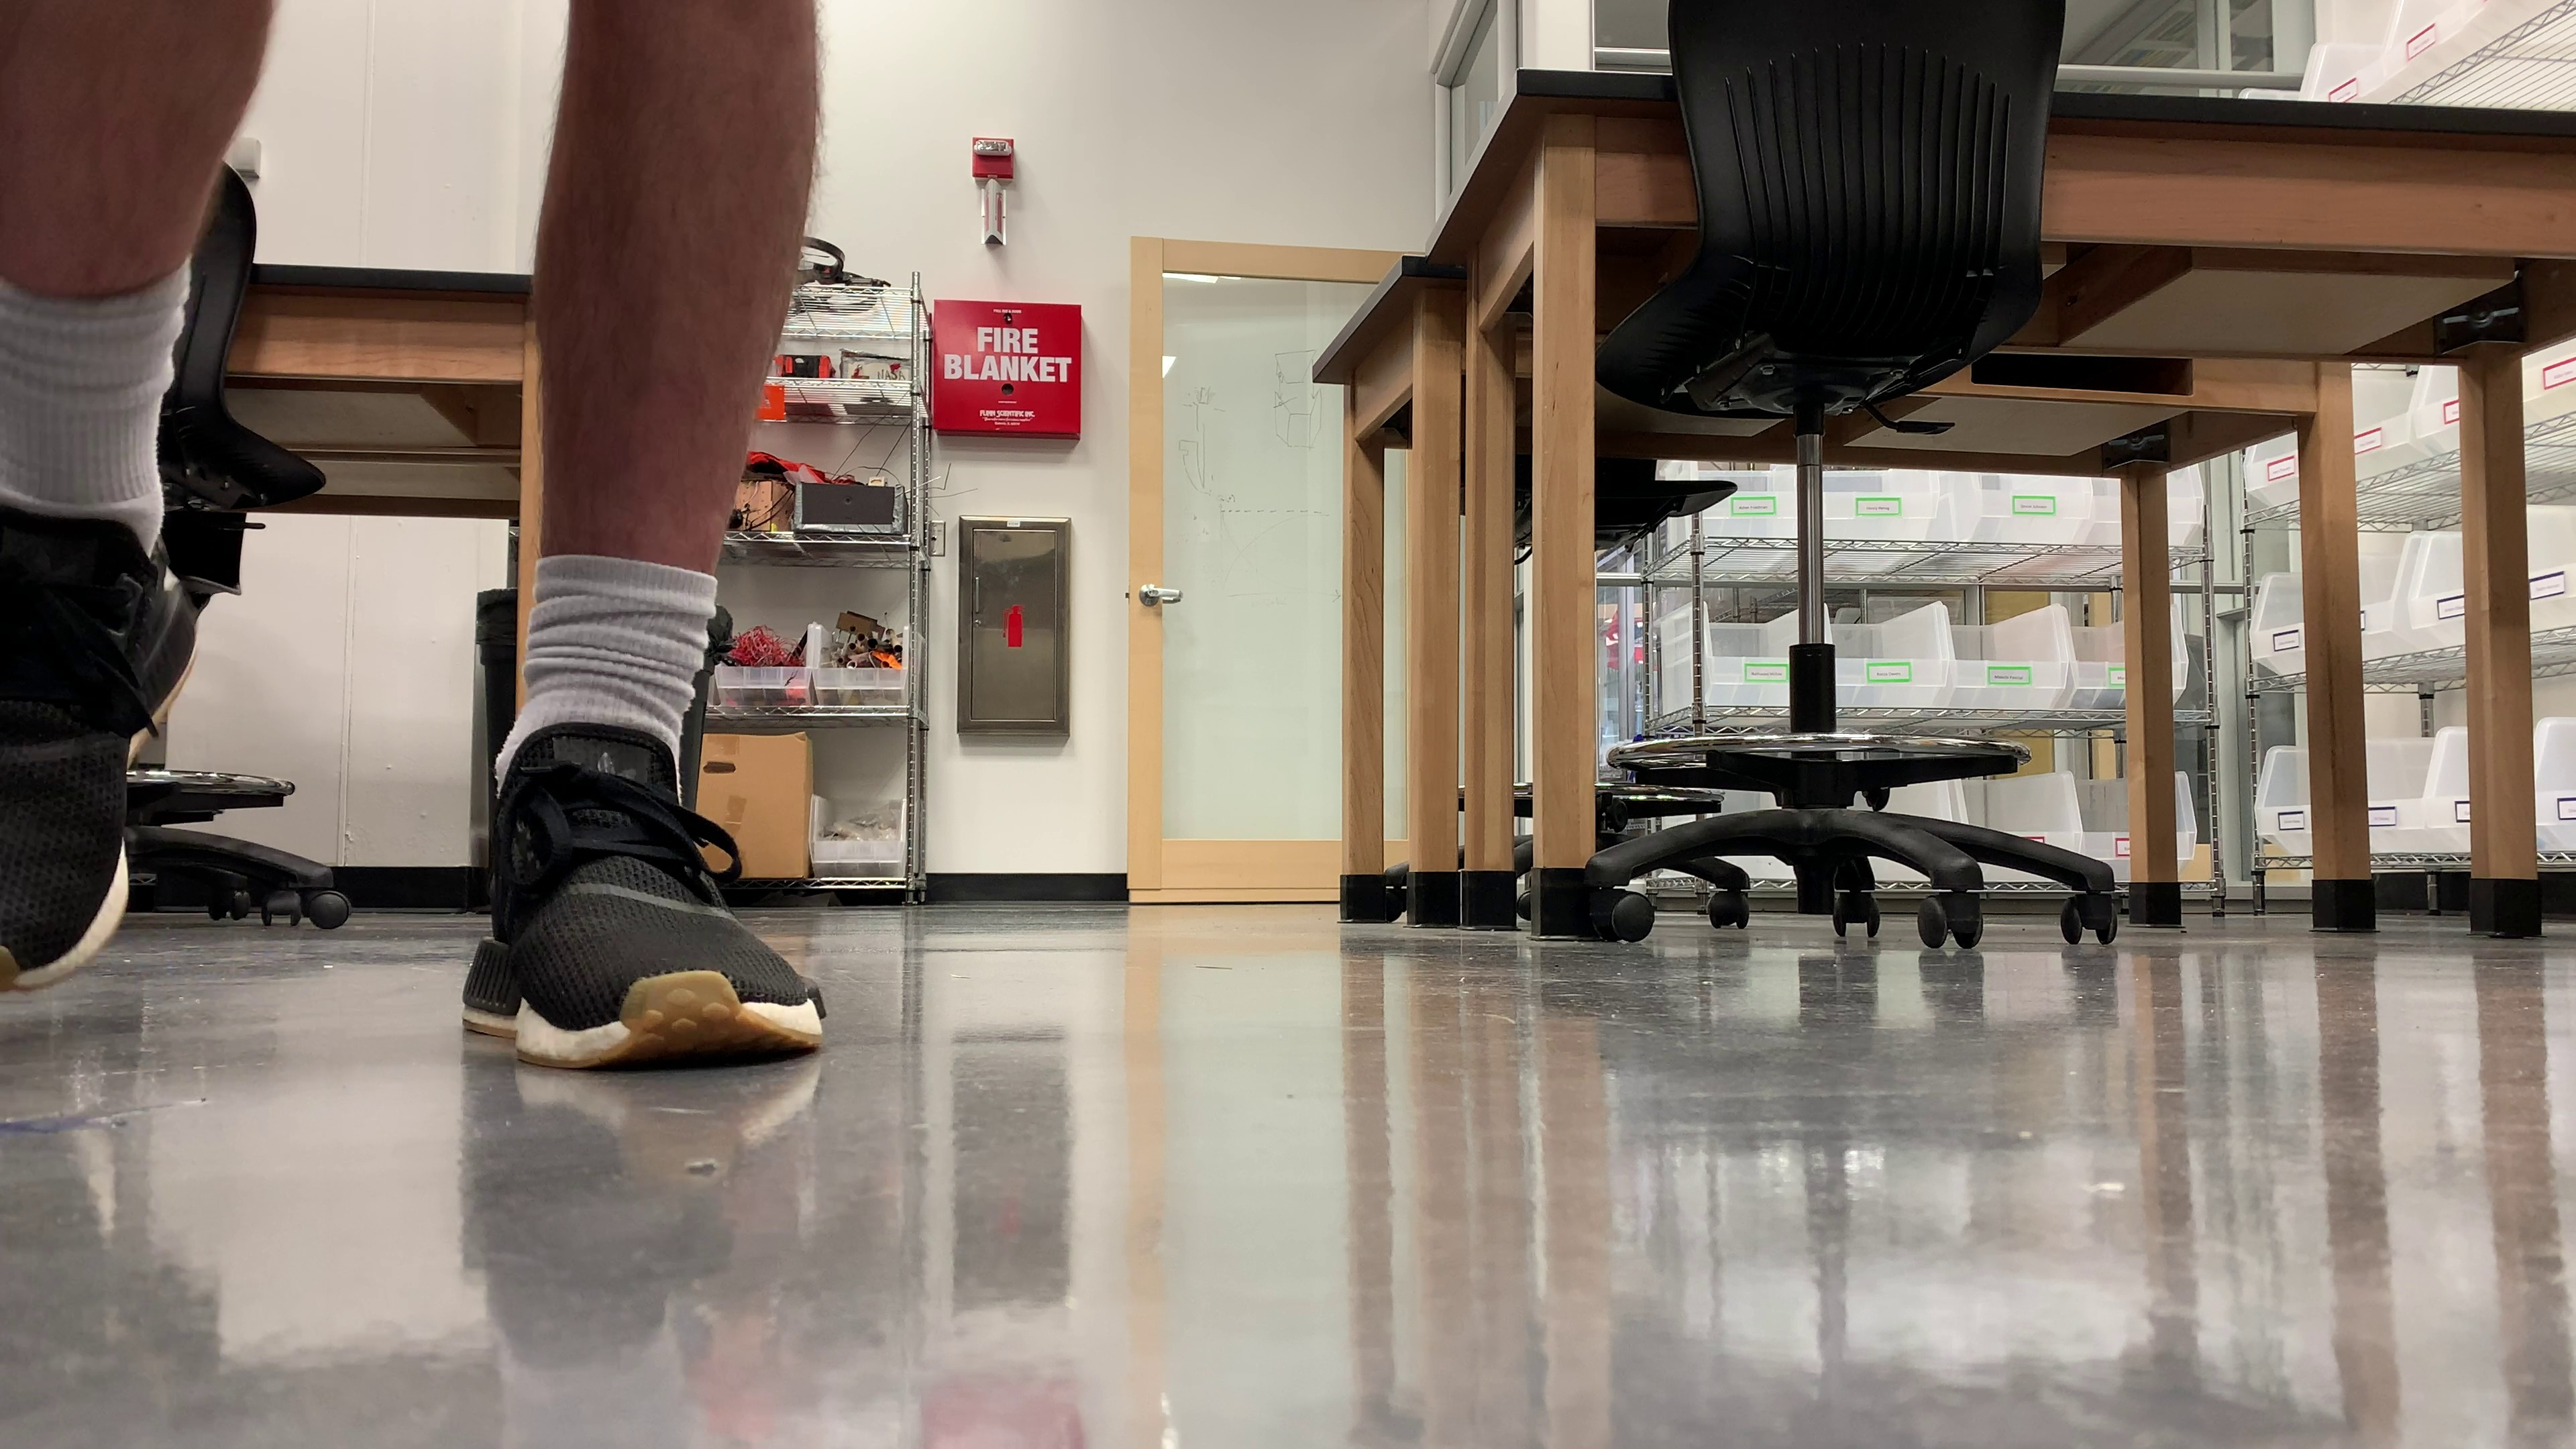shoe: (464, 722, 826, 1065), (0, 513, 196, 993)
